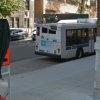buses: (34, 19, 97, 60)
